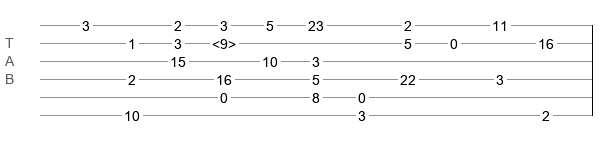0: (220, 90, 228, 100), (358, 90, 366, 100), (450, 36, 458, 46)
1: (128, 36, 136, 46)
10: (124, 108, 140, 118), (262, 54, 278, 64)
11: (492, 18, 508, 28)
15: (170, 54, 186, 64)
16: (216, 72, 232, 82), (538, 36, 554, 46)
2: (128, 72, 136, 82), (174, 18, 182, 28), (404, 18, 412, 28), (542, 108, 550, 118)
22: (400, 72, 416, 82)
23: (308, 18, 324, 28)
3: (82, 18, 90, 28), (174, 36, 182, 46), (220, 18, 228, 28), (312, 54, 320, 64), (358, 108, 366, 118), (496, 72, 504, 82)
5: (266, 18, 274, 28), (312, 72, 320, 82), (404, 36, 412, 46)
8: (312, 90, 320, 100)
harmonic: (212, 36, 236, 46)
